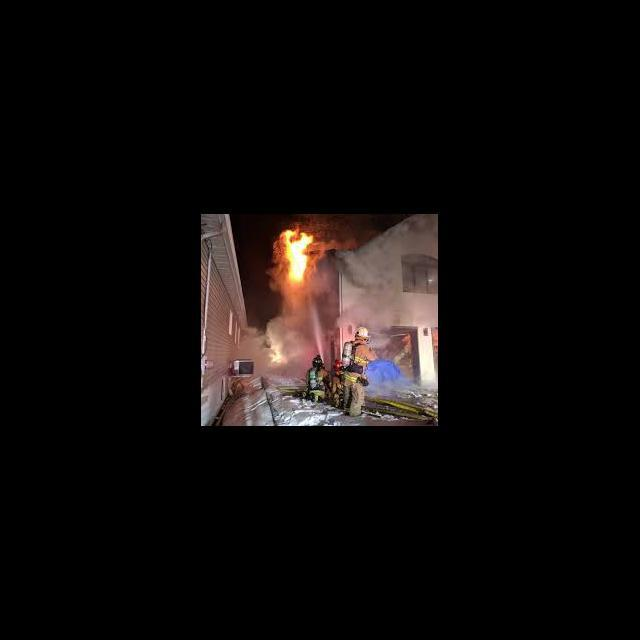Fire: (276, 228, 312, 284)
